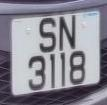1: (56, 51, 69, 91), (47, 52, 60, 91)
3: (26, 53, 48, 93)
8: (68, 50, 88, 88)
N: (57, 12, 79, 55)
S: (36, 15, 58, 57)
